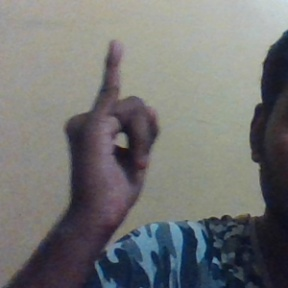I: (60, 34, 166, 219)
